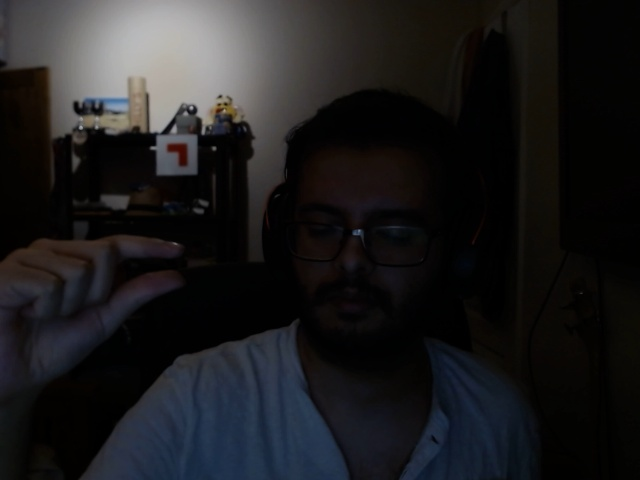Small: (1, 222, 204, 412)
